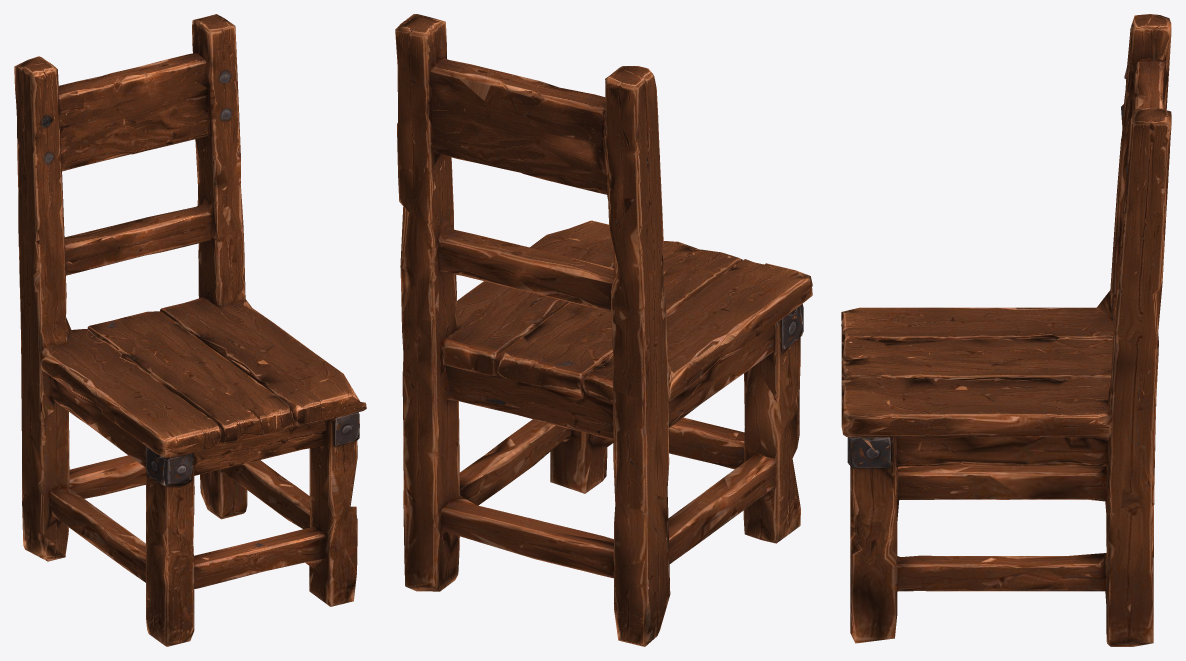
File: chair.glb
3 renders of one model, left to right at view 1: azimuth 30°, elevation 25°; view 2: azimuth 150°, elevation 25°; view 3: azimuth 270°, elevation 25°, orthographic. The views are drawn at different scales.
Parts seen in each view (by area): view 1: chair; view 2: chair; view 3: chair.
Boxes of the visible parts, x1,y1,x2,y2 form: chair: [14, 14, 366, 646]; chair: [395, 14, 812, 646]; chair: [841, 14, 1171, 646].
Bounding box in the file's own units: 85.13 × 190 × 108.
Materials: 1 (1 with a texture image).
